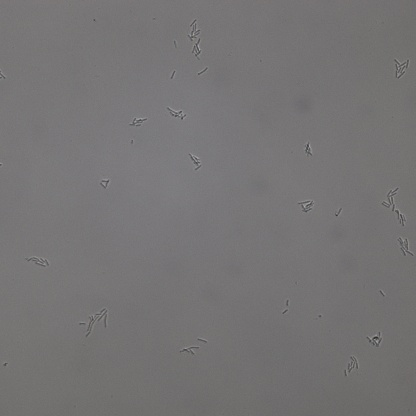R(colony): (382, 188, 406, 227), (78, 308, 110, 337), (393, 236, 414, 258), (393, 58, 410, 79), (342, 356, 359, 377), (26, 256, 50, 269), (366, 331, 382, 348), (297, 198, 315, 213), (188, 19, 200, 40), (128, 116, 148, 128), (188, 153, 202, 170), (168, 107, 186, 120), (192, 42, 203, 62), (180, 346, 198, 355), (98, 179, 109, 188), (305, 143, 312, 156)
